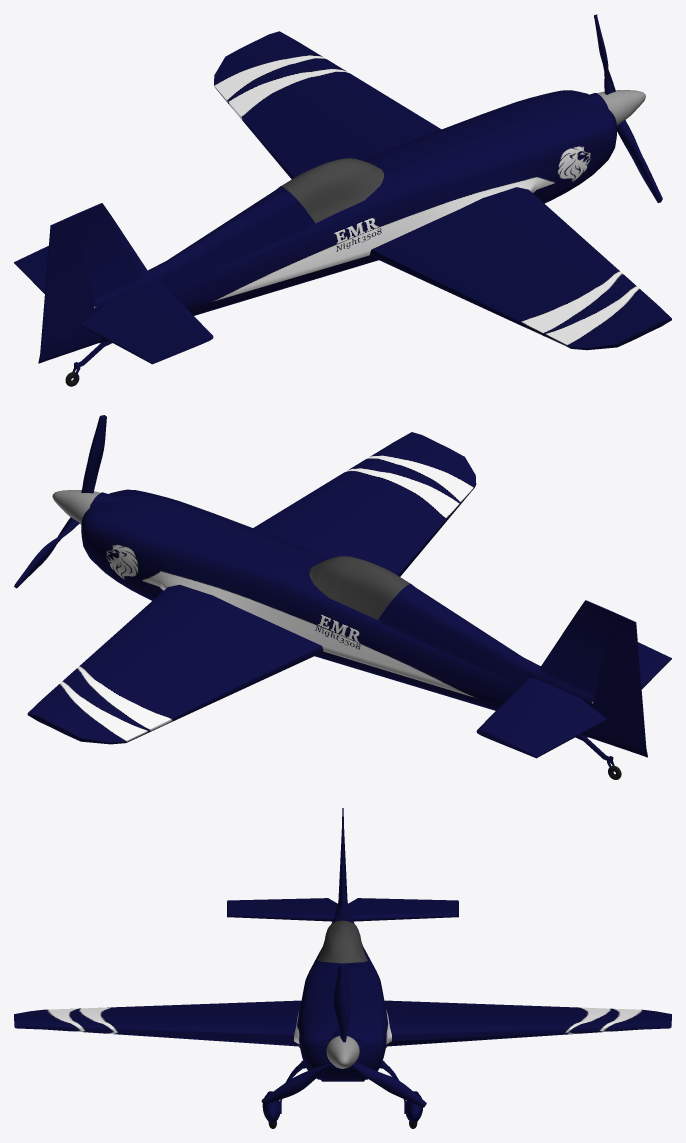
File: airplane.glb
3 renders of one model, top to bottom at view 1: azimuth 30°, elevation 25°; view 2: azimuth 150°, elevation 25°; view 3: azimuth 270°, elevation 25°, orthographic. The views are drawn at different scales.
Visible parts, largest first — view 1: Body, Engine; view 2: Body, Engine; view 3: Body, Engine.
Boxes of the visible parts, left/top/right/bottom form: Body: left=14, top=31, right=671, bottom=386; Engine: left=594, top=14, right=662, bottom=202; Body: left=27, top=432, right=671, bottom=779; Engine: left=14, top=415, right=106, bottom=588; Body: left=14, top=808, right=671, bottom=1128; Engine: left=261, top=965, right=426, bottom=1107.
Size of the model in its own units: 19.55 by 7.5 by 21.9.
6 materials, 3 textured.
